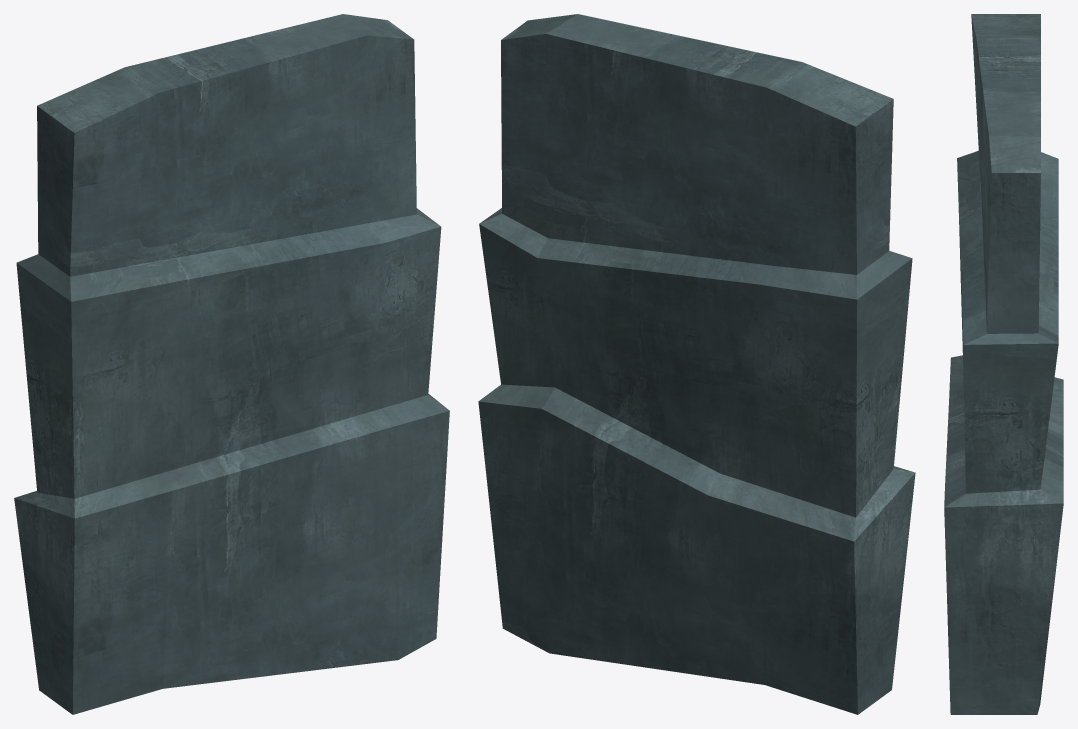
File: RockWall_4.fbx
3 views of the same model, side by side, from view 1: azimuth 30°, elevation 25°; view 2: azimuth 150°, elevation 25°; view 3: azimuth 270°, elevation 25° (orthographic). The views are drawn at different scales.
Visible parts, largest first — view 1: pCube6; view 2: pCube6; view 3: pCube6.
Boxes of the visible parts, x1=… form: pCube6: x1=14, y1=14, x2=449, y2=714; pCube6: x1=478, y1=14, x2=915, y2=714; pCube6: x1=944, y1=14, x2=1063, y2=714.
Bounding box in the file's own units: 9.06 × 14.17 × 2.7.
